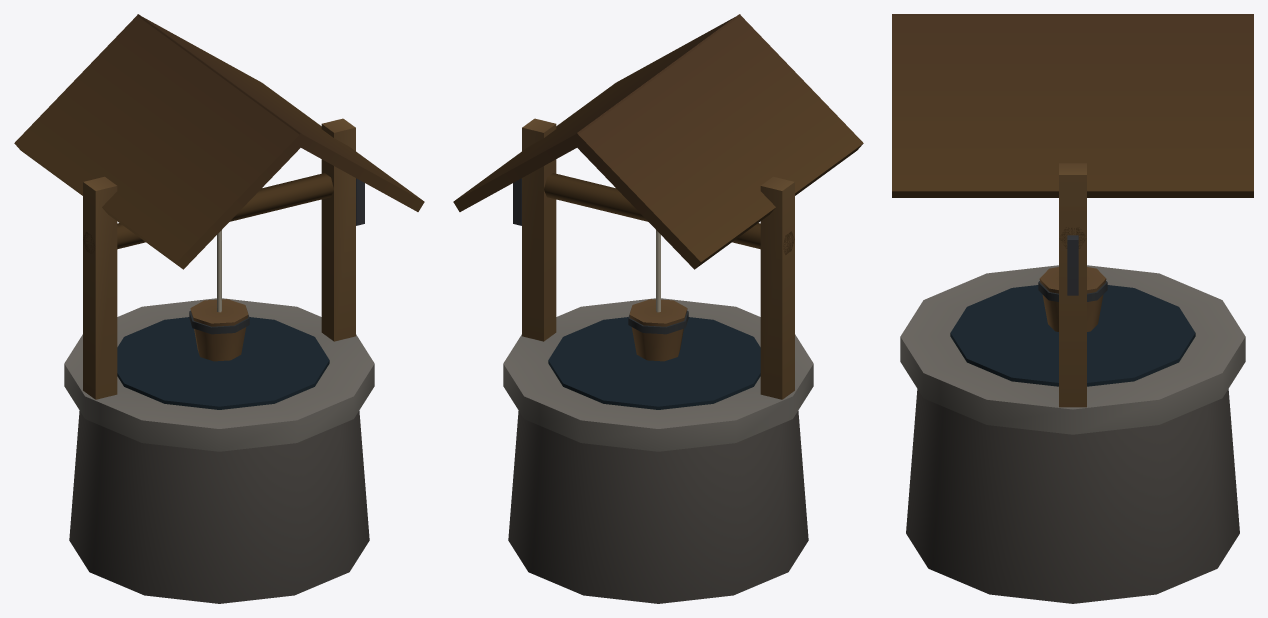
File: well.glb
The picture shows the model from 3 angles, left to right: view 1: azimuth 30°, elevation 25°; view 2: azimuth 150°, elevation 25°; view 3: azimuth 270°, elevation 25°; orthographic projection. The views are drawn at different scales.
Visible parts, largest first — view 1: well_model; view 2: well_model; view 3: well_model.
Boxes of the visible parts, box(x1,y1,x2,y2) form: well_model: box(14, 14, 424, 603); well_model: box(453, 14, 863, 603); well_model: box(892, 14, 1253, 603).
Size of the model in its own units: 1.28 by 2.06 by 1.3.
